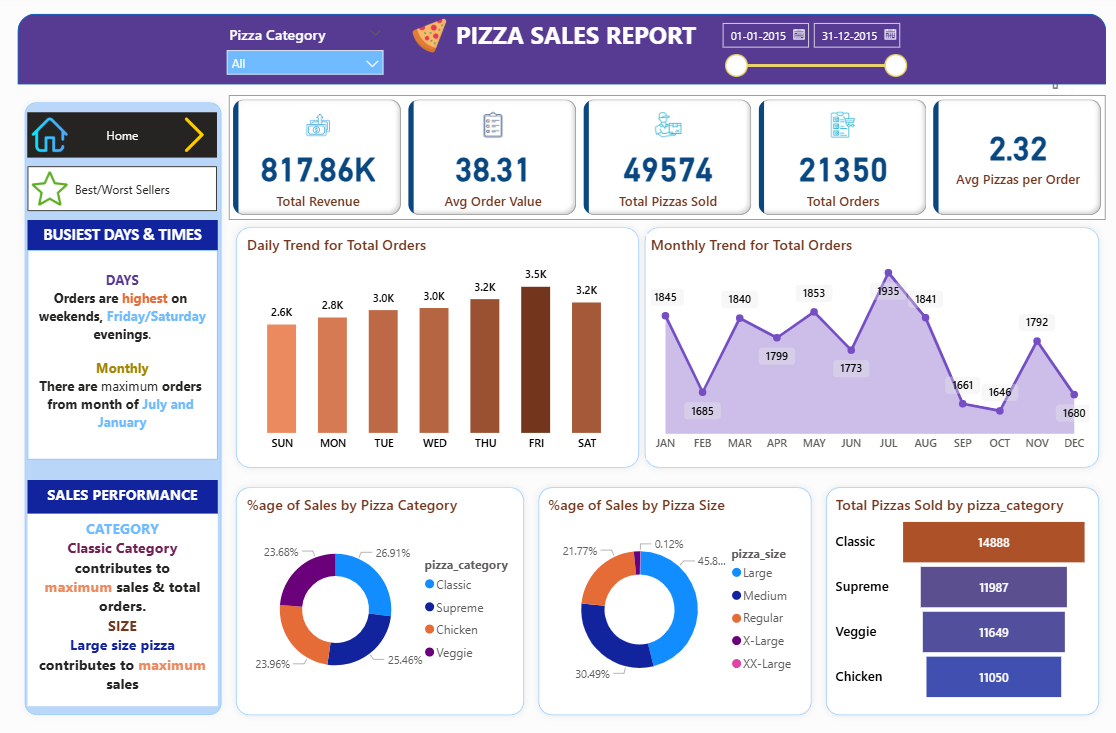

The page's visual inventory and layout, read from the dashboard file:
{"tool":"powerbi","page":{"name":"Home","canvas":[1250,820],"ordinal":0},"visuals":[{"type":"shape","box":[19.7,105.7,235.3,698.8],"z":0},{"type":"cardVisual","fields":{"Data":["pizza_sales.Total Revenue","pizza_sales.Avg Order Value","pizza_sales.Total Pizzas Sold","pizza_sales.Total Orders","pizza_sales.Avg Pizzas per Order"]},"box":[255,105.7,977.8,139.5],"z":1000},{"type":"shape","box":[19.7,15.5,1213.1,78.9],"z":2000},{"type":"textbox","box":[503,15.5,290.2,49.3],"z":3000},{"type":"textbox","box":[30.6,245.1,211.7,33.4],"z":4000},{"type":"image","box":[453.7,15.5,49.3,49.3],"z":5000},{"type":"shape","box":[254.9,245.1,465.2,284.1],"z":6000},{"type":"columnChart","title":"Daily Trend for Total Orders","fields":{"Category":["pizza_sales.Order Day"],"Y":["pizza_sales.Total Orders"]},"box":[270.2,260.4,428.9,252.1],"z":7000},{"type":"shape","box":[710.3,245.1,522.3,284.1],"z":8000},{"type":"areaChart","title":"Monthly Trend for Total Orders","fields":{"Category":["pizza_sales.Order Month"],"Y":["pizza_sales.Total Orders"]},"box":[720,260.4,498.6,252.1],"z":9000},{"type":"shape","box":[254.9,534.8,337,270.2],"z":10000},{"type":"shape","box":[591.9,534.8,320.3,270.2],"z":11000},{"type":"shape","box":[912.2,534.8,320.3,270.2],"z":12000},{"type":"donutChart","title":"%age of Sales by Pizza Category","fields":{"Category":["pizza_sales.pizza_category"],"Y":["pizza_sales.Total Revenue"]},"box":[270.2,550.1,307.8,236.8],"z":13000},{"type":"donutChart","title":"%age of Sales by Pizza Size","fields":{"Y":["pizza_sales.Total Revenue"],"Category":["pizza_sales.pizza_size"]},"box":[605.8,550.1,293.9,236.8],"z":14000},{"type":"funnel","fields":{"Y":["pizza_sales.Total Pizzas Sold"],"Category":["pizza_sales.pizza_category"]},"box":[926.1,550.1,292.5,236.8],"z":15000},{"type":"textbox","box":[30.6,278.5,211.7,234],"z":16000},{"type":"textbox","box":[30.6,534.8,211.7,37.6],"z":17000},{"type":"textbox","box":[30.6,572.4,211.7,214.5],"z":18000},{"type":"slicer","fields":{"Values":["pizza_sales.pizza_category"]},"box":[242.3,22.3,195,65.5],"z":19000},{"type":"slicer","fields":{"Values":["pizza_sales.order_date"]},"box":[792.4,15.3,227,79.4],"z":20000},{"type":"pageNavigator","box":[30.6,185.2,211.7,50.1],"z":20001},{"type":"pageNavigator","box":[30.6,125.3,211.7,50.1],"z":20002},{"type":"image","box":[190.8,125.3,51.5,50.1],"z":20003},{"type":"image","box":[30.6,125.3,50.1,50.1],"z":20004},{"type":"image","box":[30.6,185.2,50.1,50.1],"z":20005}]}

Visuals, with their boxes in screenshot pixels (x1, y1, x2, y2), scaled from the page's 1250x820 canvas onto the 1116x733 screenshot:
shape: 18:94:228:719
cardVisual - pizza_sales.Total Revenue x pizza_sales.Avg Order Value: 228:94:1101:219
shape: 18:14:1101:84
textbox: 449:14:708:58
textbox: 27:219:216:249
image: 405:14:449:58
shape: 228:219:643:473
"Daily Trend for Total Orders" columnChart: 241:233:624:458
shape: 634:219:1100:473
"Monthly Trend for Total Orders" areaChart: 643:233:1088:458
shape: 228:478:528:720
shape: 528:478:814:720
shape: 814:478:1100:720
"%age of Sales by Pizza Category" donutChart: 241:492:516:703
"%age of Sales by Pizza Size" donutChart: 541:492:803:703
funnel - pizza_sales.Total Pizzas Sold x pizza_sales.pizza_category: 827:492:1088:703
textbox: 27:249:216:458
textbox: 27:478:216:512
textbox: 27:512:216:703
slicer - pizza_sales.pizza_category: 216:20:390:78
slicer - pizza_sales.order_date: 707:14:910:85
pageNavigator: 27:166:216:210
pageNavigator: 27:112:216:157
image: 170:112:216:157
image: 27:112:72:157
image: 27:166:72:210
